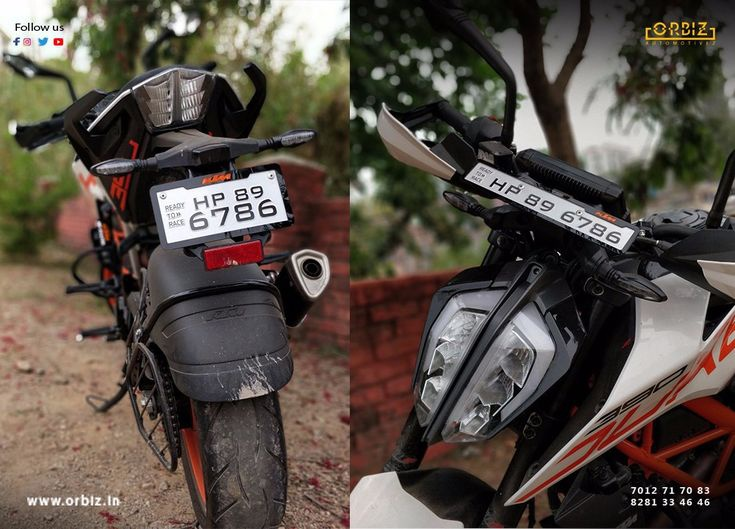plate: (148, 182, 287, 234)
